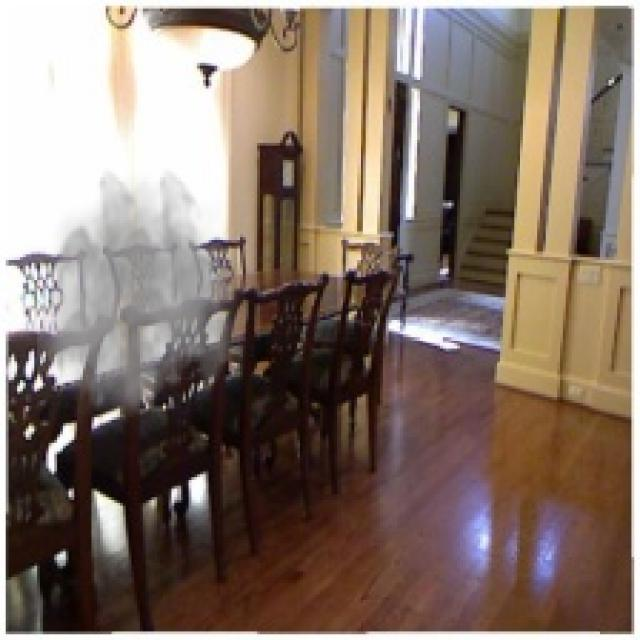smoke: (37, 166, 249, 426)
